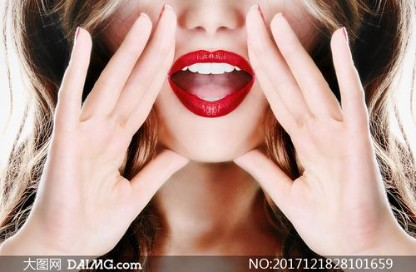张嘴: (163, 44, 258, 119)
